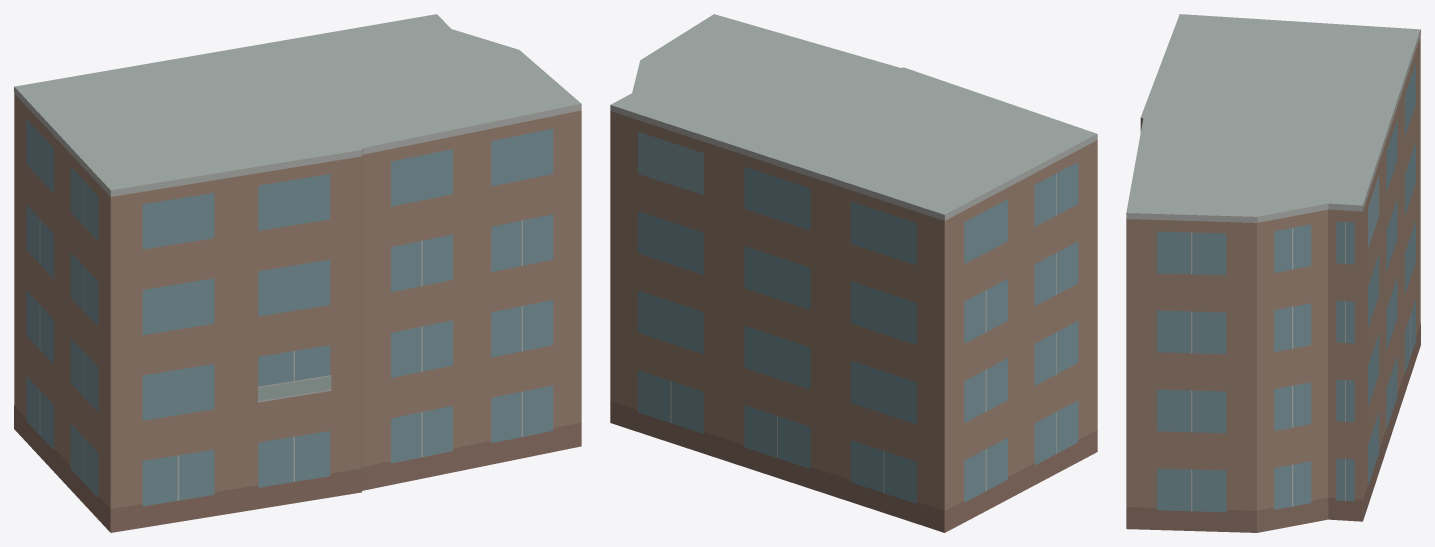
The model's file is survey-upis-32672124.glb.
3 views of the same model, side by side, from view 1: azimuth 30°, elevation 25°; view 2: azimuth 150°, elevation 25°; view 3: azimuth 270°, elevation 25° (orthographic). The views are drawn at different scales.
Parts seen in each view (by area): view 1: survey-upis-32672124.tmp; view 2: survey-upis-32672124.tmp; view 3: survey-upis-32672124.tmp.
Boxes of the visible parts, x1,y1,x2,y2 form: survey-upis-32672124.tmp: (14, 14, 581, 532); survey-upis-32672124.tmp: (610, 14, 1097, 532); survey-upis-32672124.tmp: (1126, 14, 1420, 532).
Size of the model in its own units: 17.64 by 12.8 by 10.82.
